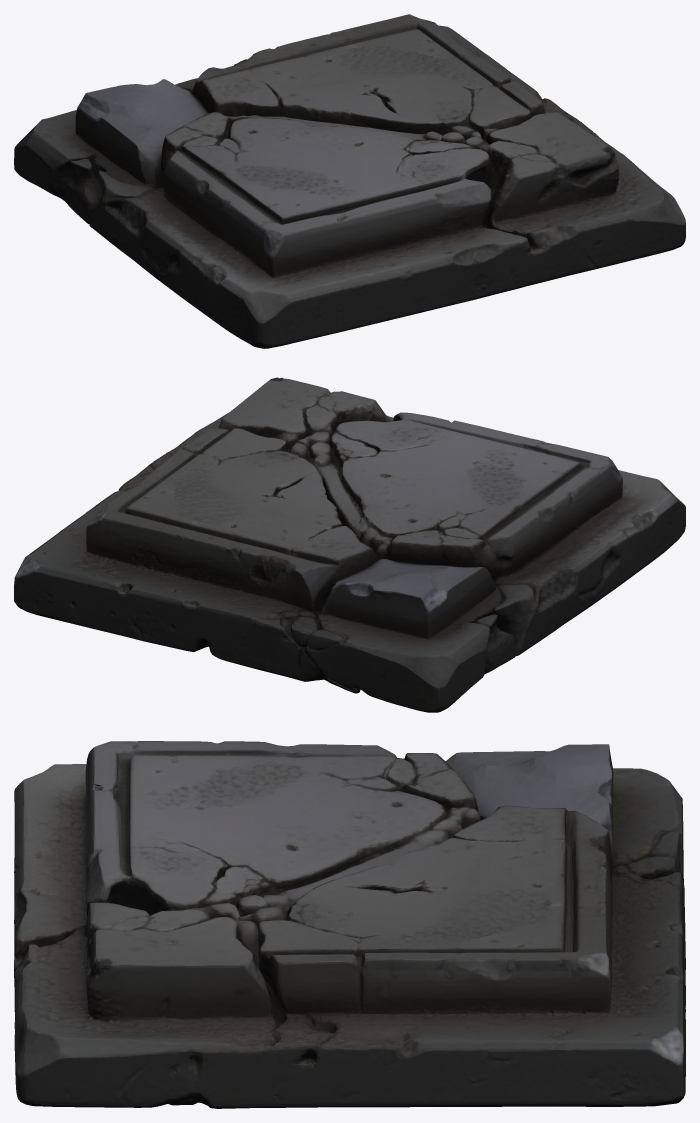
The model's file is pressureplate.glb.
The picture shows the model from 3 angles, top to bottom: view 1: azimuth 30°, elevation 25°; view 2: azimuth 150°, elevation 25°; view 3: azimuth 270°, elevation 25°; orthographic projection. The views are drawn at different scales.
Parts seen in each view (by area): view 1: world; view 2: world; view 3: world.
Part boxes in pixels (x1,y1,x2,y2): world: [14, 14, 685, 348]; world: [14, 377, 685, 712]; world: [14, 741, 685, 1108].
Size of the model in its own units: 0.9863 by 0.1957 by 0.9807.
Materials: 1 (1 with a texture image).
